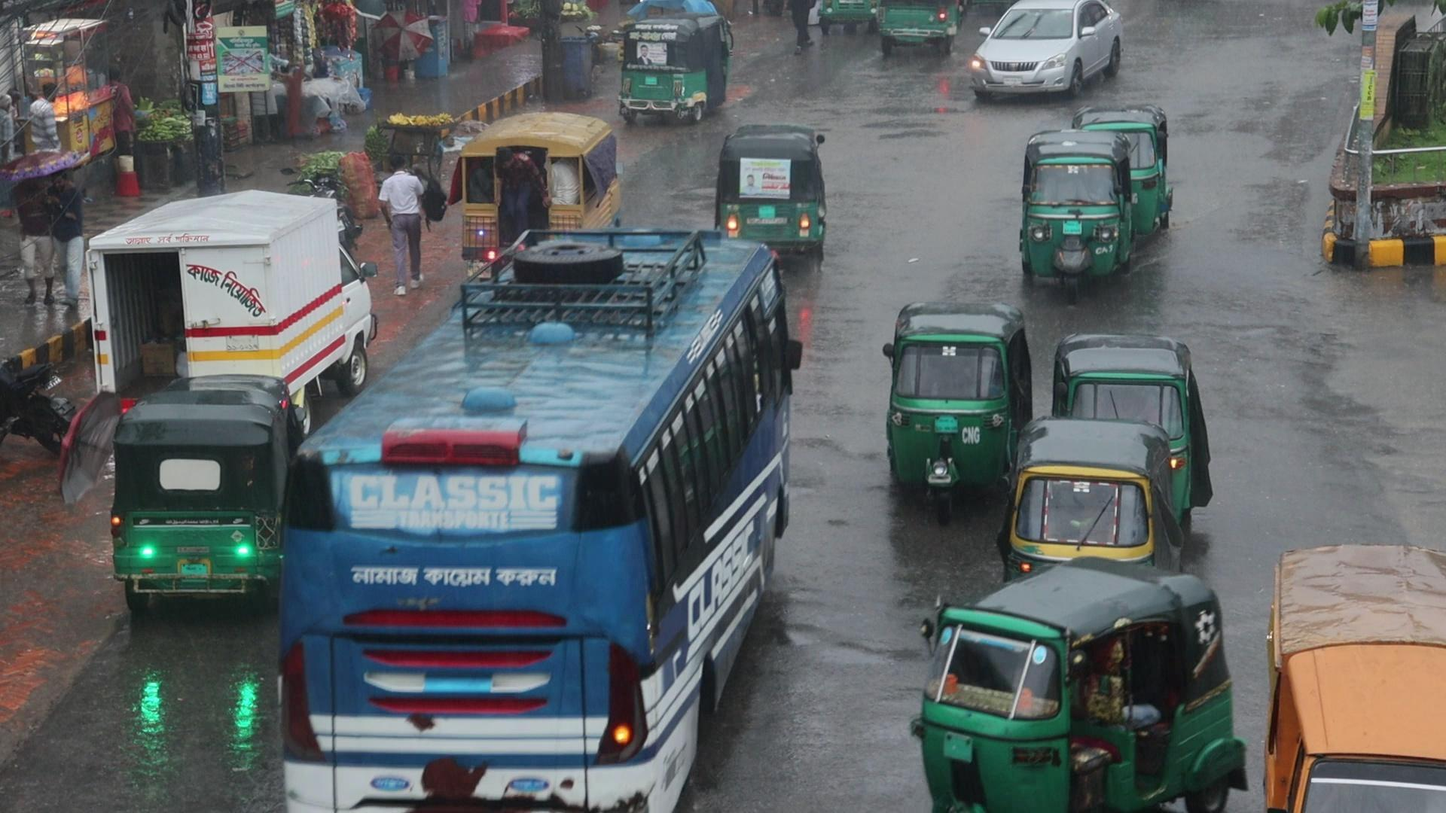Bus: (268, 224, 805, 813)
Car: (968, 1, 1131, 105)
Truck: (454, 106, 629, 269)
